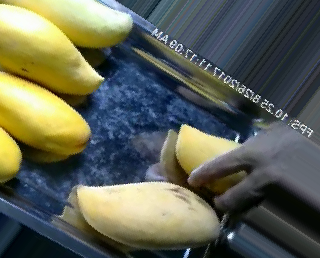Mango: (0, 2, 106, 95), (78, 181, 225, 248), (0, 68, 91, 154), (0, 0, 132, 49), (175, 123, 257, 192)
